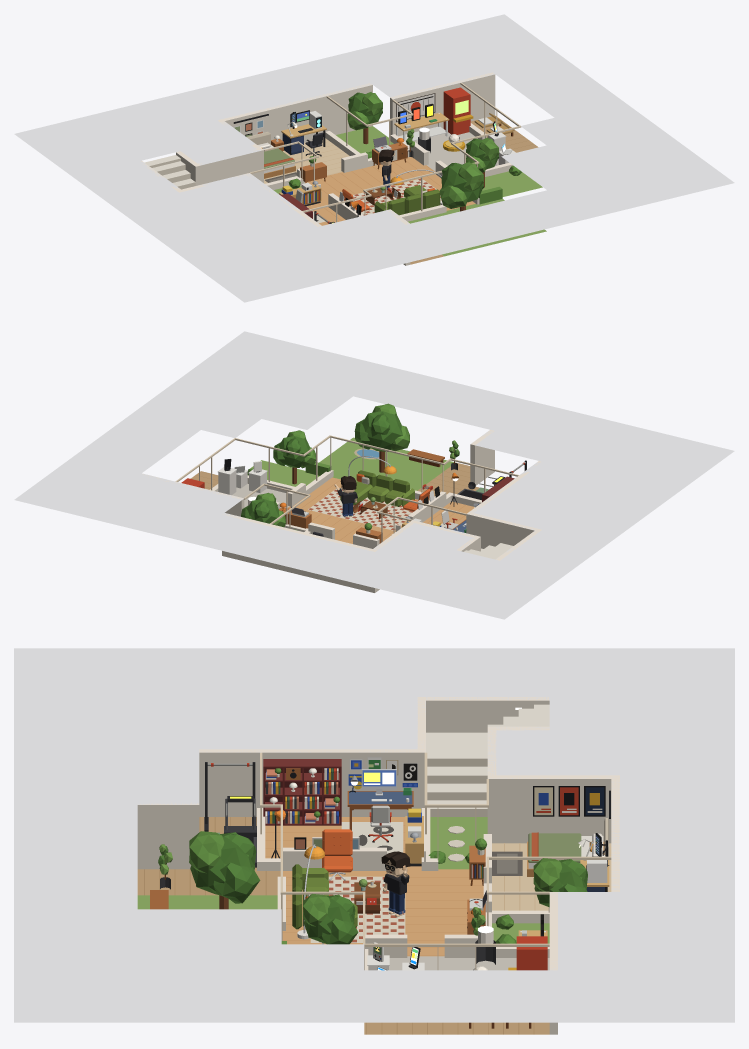
Rendered from house_P2.glb.
The picture shows the model from 3 angles, top to bottom: view 1: azimuth 30°, elevation 25°; view 2: azimuth 150°, elevation 25°; view 3: azimuth 270°, elevation 25°; orthographic projection. The views are drawn at different scales.
Parts seen in each view (by area): view 1: page_surface, house_shell, garden_tree_Tree, lab_arcade_Arcade, pocketNE_tree_Tree, living_sofaL_Sofa, bedroom_desk_Desk___PC, lab_desk_Bench, wall_art, bedroom_bed_Bed, pocketSE_tree_Tree, living_rug_check (+2 smaller); view 2: page_surface, house_shell, garden_tree_Tree, living_rug_check, living_sofaL_Sofa, pocketSE_tree_Tree, pocketNE_tree_Tree, character_abraham, lab_plinth_Phone, living_console_Turntable; view 3: page_surface, house_shell, studio_bookcase_Books, garden_tree_Tree, wall_art, pocketSE_tree_Tree, studio_desk_Desk, living_rug_check, bedroom_bed_Bed, pocketNE_tree_Tree, living_sofaL_Sofa, living_chair (+9 smaller).
Part boxes in pixels (x1=…): page_surface: x1=14, y1=14, x2=734, y2=302; house_shell: x1=141, y1=72, x2=546, y2=265; garden_tree_Tree: x1=439, y1=161, x2=483, y2=211; lab_arcade_Arcade: x1=443, y1=87, x2=473, y2=134; pocketNE_tree_Tree: x1=347, y1=92, x2=382, y2=144; living_sofaL_Sofa: x1=374, y1=185, x2=440, y2=215; bedroom_desk_Desk___PC: x1=281, y1=110, x2=326, y2=154; lab_desk_Bench: x1=394, y1=103, x2=449, y2=141; wall_art: x1=233, y1=93, x2=435, y2=215; bedroom_bed_Bed: x1=246, y1=131, x2=295, y2=178; pocketSE_tree_Tree: x1=466, y1=137, x2=499, y2=187; living_rug_check: x1=344, y1=178, x2=441, y2=215; page_surface: x1=14, y1=331, x2=734, y2=619; house_shell: x1=143, y1=430, x2=541, y2=592; garden_tree_Tree: x1=354, y1=403, x2=409, y2=472; living_rug_check: x1=308, y1=488, x2=412, y2=530; living_sofaL_Sofa: x1=340, y1=470, x2=414, y2=506; pocketSE_tree_Tree: x1=273, y1=430, x2=315, y2=484; pocketNE_tree_Tree: x1=241, y1=492, x2=285, y2=527; character_abraham: x1=334, y1=476, x2=357, y2=517; lab_plinth_Phone: x1=217, y1=459, x2=236, y2=495; living_console_Turntable: x1=279, y1=502, x2=311, y2=528; page_surface: x1=14, y1=648, x2=734, y2=1022; house_shell: x1=137, y1=697, x2=619, y2=1034; studio_bookcase_Books: x1=263, y1=759, x2=341, y2=825; garden_tree_Tree: x1=189, y1=831, x2=260, y2=909; wall_art: x1=294, y1=756, x2=610, y2=849; pocketSE_tree_Tree: x1=303, y1=894, x2=358, y2=944; studio_desk_Desk: x1=347, y1=769, x2=413, y2=830; living_rug_check: x1=310, y1=876, x2=405, y2=942; bedroom_bed_Bed: x1=527, y1=818, x2=608, y2=876; pocketNE_tree_Tree: x1=533, y1=858, x2=587, y2=907; living_sofaL_Sofa: x1=292, y1=864, x2=357, y2=929; living_chair: x1=322, y1=829, x2=352, y2=880.
Size of the model in its own units: 21.5 by 2.66 by 17.5.
